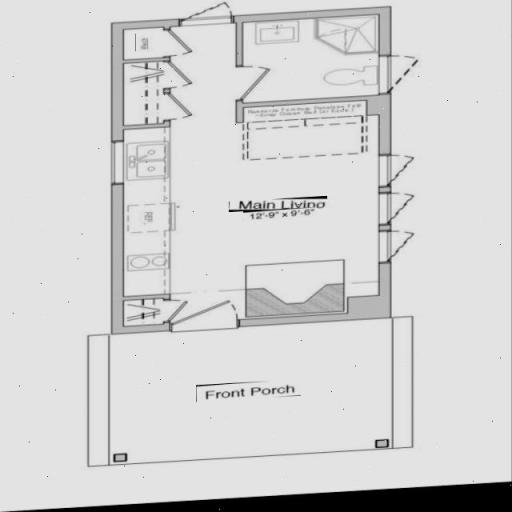hall: (176, 154, 374, 291)
